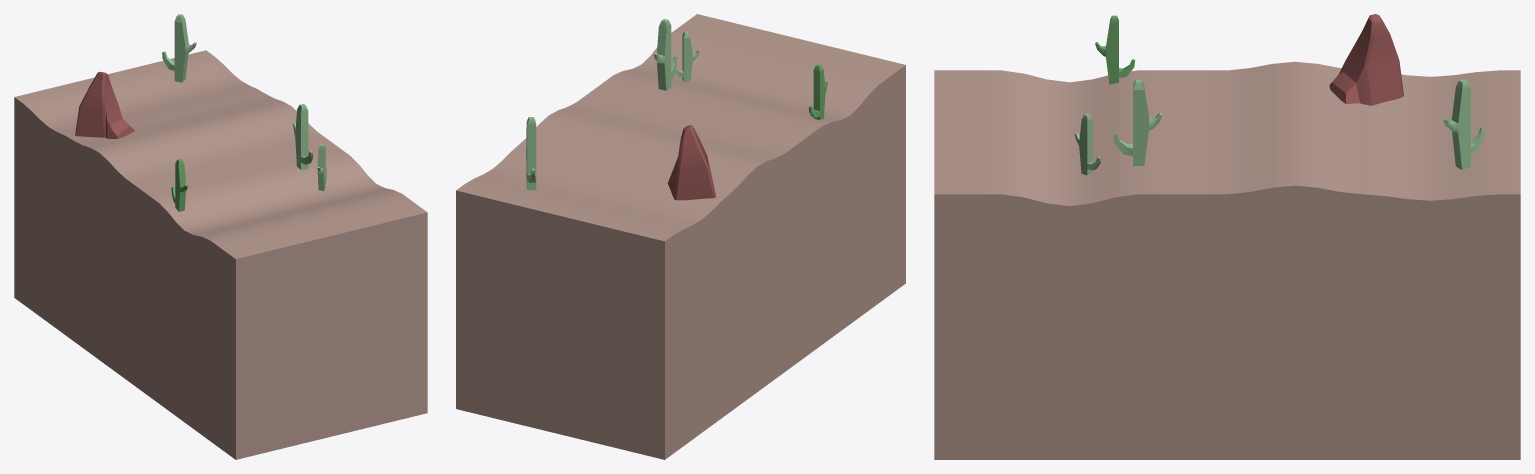
File: New-Land-FLAT_LAND.fbx
3 views of the same model, side by side, from view 1: azimuth 30°, elevation 25°; view 2: azimuth 150°, elevation 25°; view 3: azimuth 270°, elevation 25° (orthographic). The views are drawn at different scales.
Visible parts, largest first — view 1: Land_Modules:Flat_Land, Rock__3_pCube4, pCube25, pCube24, pCube27; view 2: Land_Modules:Flat_Land, Rock__3_pCube4, pCube24, pCube25, pCube27, pCube26; view 3: Land_Modules:Flat_Land, Rock__3_pCube4, pCube25, pCube24, pCube27, pCube26.
Boxes of the visible parts, bbox=[...] form: Land_Modules:Flat_Land: bbox=[14, 50, 427, 459]; Rock__3_pCube4: bbox=[75, 72, 134, 138]; pCube25: bbox=[162, 14, 196, 82]; pCube24: bbox=[292, 104, 312, 170]; pCube27: bbox=[171, 159, 187, 211]; Land_Modules:Flat_Land: bbox=[456, 14, 905, 459]; Rock__3_pCube4: bbox=[667, 125, 716, 200]; pCube24: bbox=[653, 19, 676, 90]; pCube25: bbox=[526, 117, 536, 190]; pCube27: bbox=[809, 64, 827, 119]; pCube26: bbox=[675, 31, 699, 81]; Land_Modules:Flat_Land: bbox=[934, 61, 1520, 459]; Rock__3_pCube4: bbox=[1329, 14, 1403, 105]; pCube25: bbox=[1443, 79, 1484, 169]; pCube24: bbox=[1113, 79, 1162, 166]; pCube27: bbox=[1095, 15, 1135, 84]; pCube26: bbox=[1074, 113, 1100, 175].
Size of the model in its own units: 1000 by 1311 by 2000.
